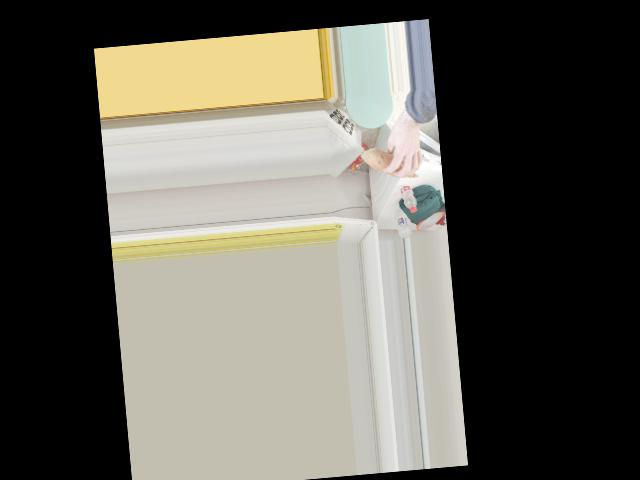sweet_potato: (362, 144, 421, 182)
